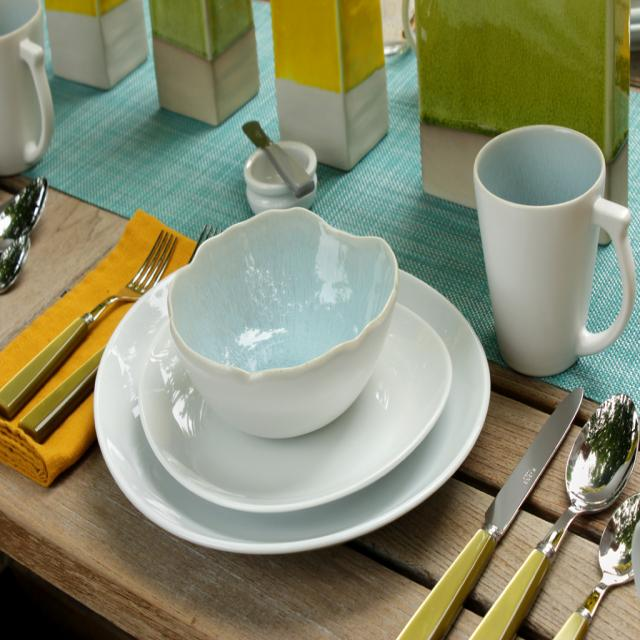non-organic waste: (468, 124, 640, 387)
